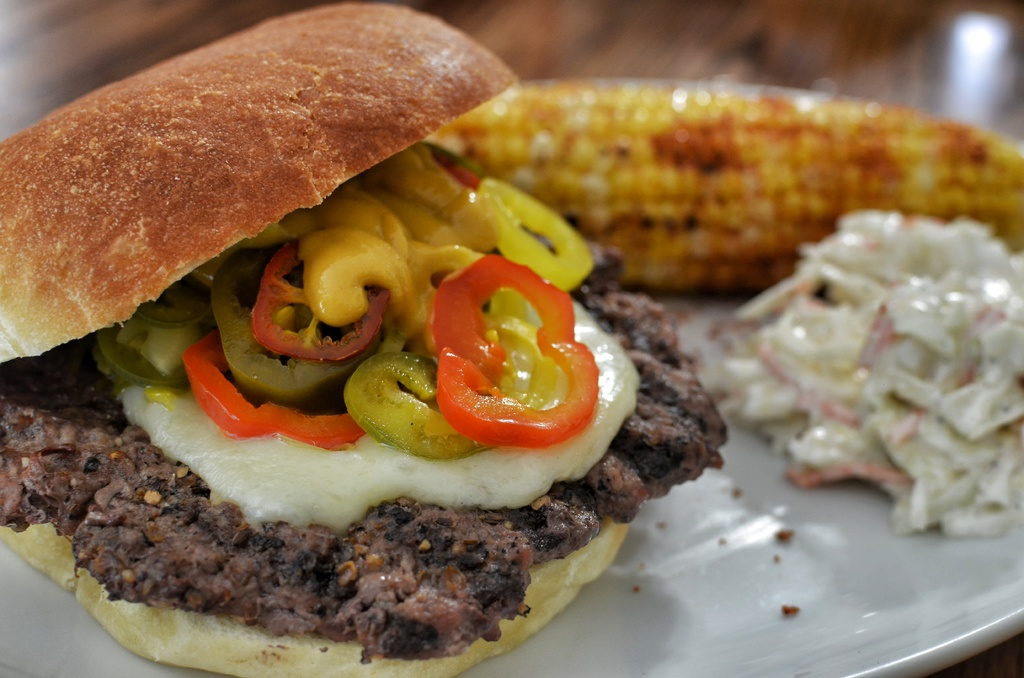Hamburger: (0, 0, 730, 677)
